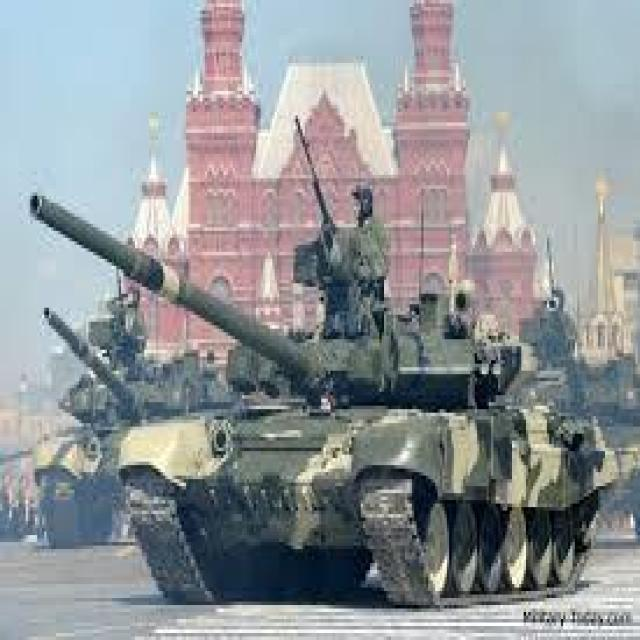Tanks: (119, 222, 600, 603), (37, 290, 221, 542)
